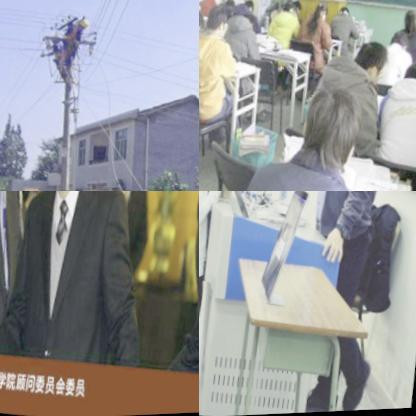head: (291, 78, 360, 173), (347, 35, 387, 88), (202, 3, 228, 38), (386, 25, 411, 57), (400, 58, 416, 94), (398, 5, 416, 34), (307, 0, 326, 23), (239, 10, 254, 33), (334, 3, 350, 23), (285, 0, 301, 18), (277, 0, 292, 14), (239, 0, 253, 14), (199, 3, 204, 37), (221, 0, 233, 11), (412, 2, 416, 27)
helmet: (73, 15, 91, 34)
